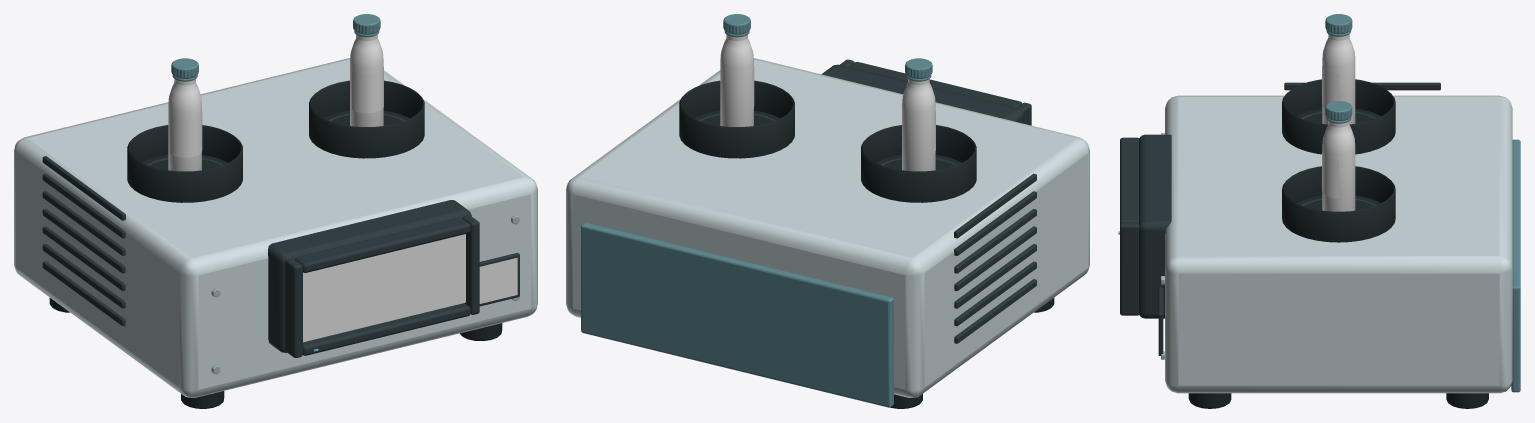
Rendered from ID_DualVortexMixer.fbx.
3 renders of one model, left to right at view 1: azimuth 30°, elevation 25°; view 2: azimuth 150°, elevation 25°; view 3: azimuth 270°, elevation 25°, orthographic. The views are drawn at different scales.
Parts seen in each view (by area): view 1: ID_DualVortexMixer; view 2: ID_DualVortexMixer; view 3: ID_DualVortexMixer.
Part boxes in pixels (bbox=[...]): ID_DualVortexMixer: bbox=[14, 14, 537, 408]; ID_DualVortexMixer: bbox=[566, 14, 1089, 408]; ID_DualVortexMixer: bbox=[1118, 14, 1520, 408].
Bounding box in the file's own units: 51.5 × 37.9 × 50.9.
